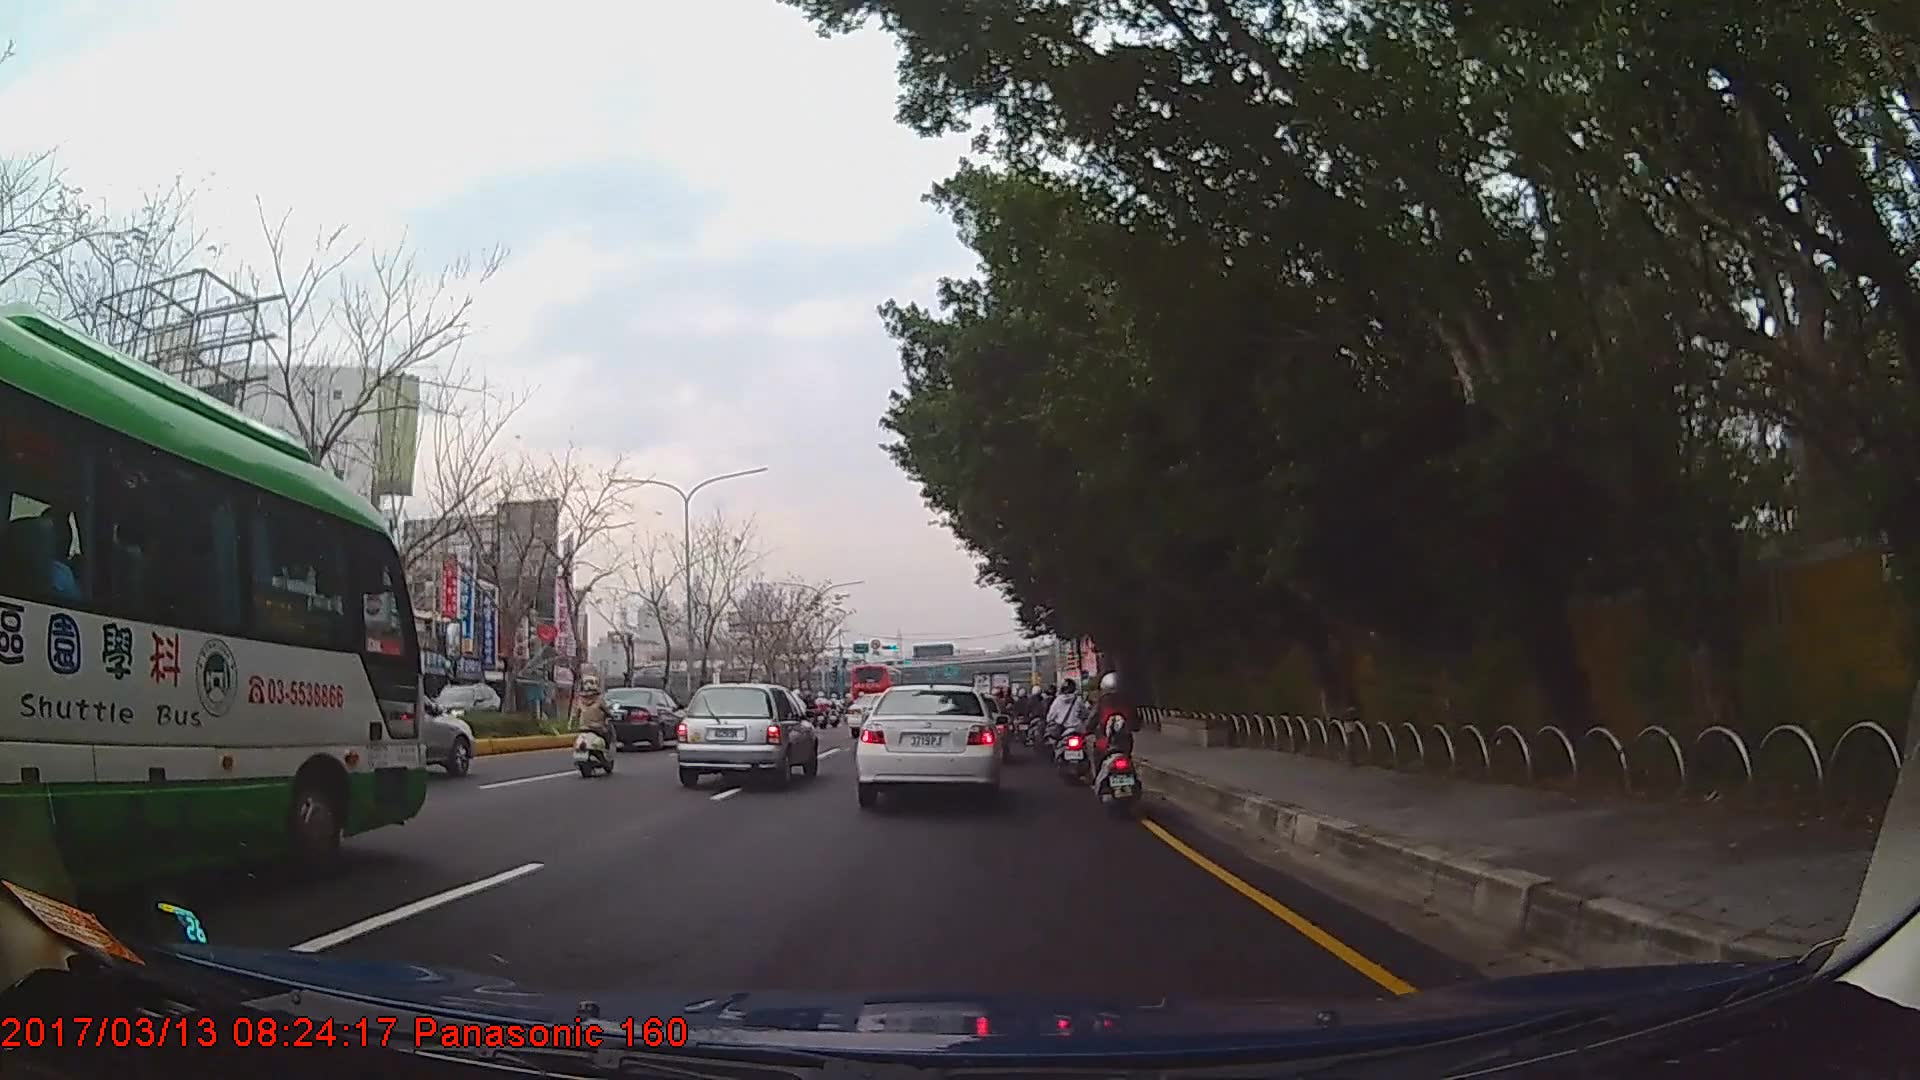rider: (1085, 668, 1148, 819), (1050, 677, 1093, 784), (575, 677, 618, 778), (1041, 682, 1064, 751)
vehicle: (0, 297, 429, 909), (853, 683, 1004, 806), (674, 680, 818, 788), (579, 684, 692, 751), (421, 680, 504, 735), (848, 659, 901, 710)
